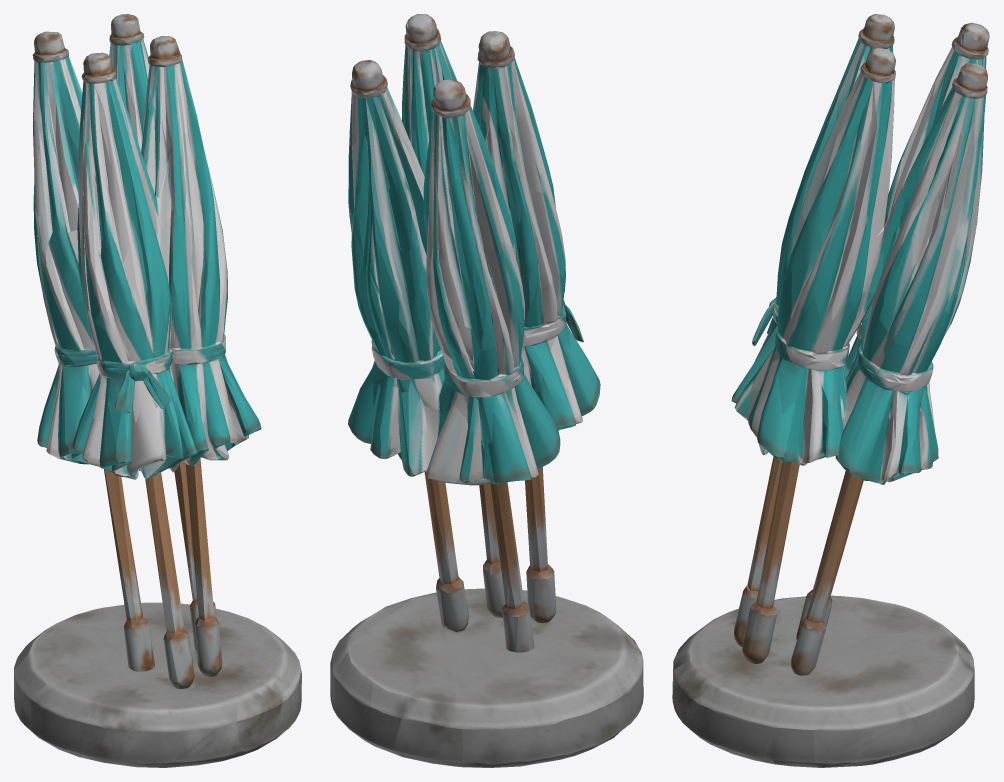
The model's file is ombrelloni_chiusi.glb.
The picture shows the model from 3 angles, left to right: view 1: azimuth 30°, elevation 25°; view 2: azimuth 150°, elevation 25°; view 3: azimuth 270°, elevation 25°; orthographic projection. The views are drawn at different scales.
Parts seen in each view (by area): view 1: Mesh_0; view 2: Mesh_0; view 3: Mesh_0.
Boxes of the visible parts, x1,y1,x2,y2 form: Mesh_0: (14, 14, 301, 767); Mesh_0: (330, 14, 643, 767); Mesh_0: (672, 14, 989, 767).
Bounding box in the file's own units: 0.7669 × 1.9 × 0.8084.
1 material, 1 textured.
